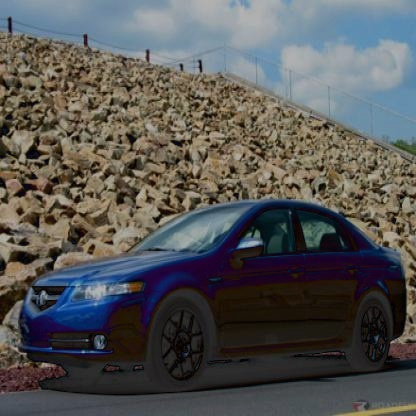Vehicle: (19, 198, 408, 389)
